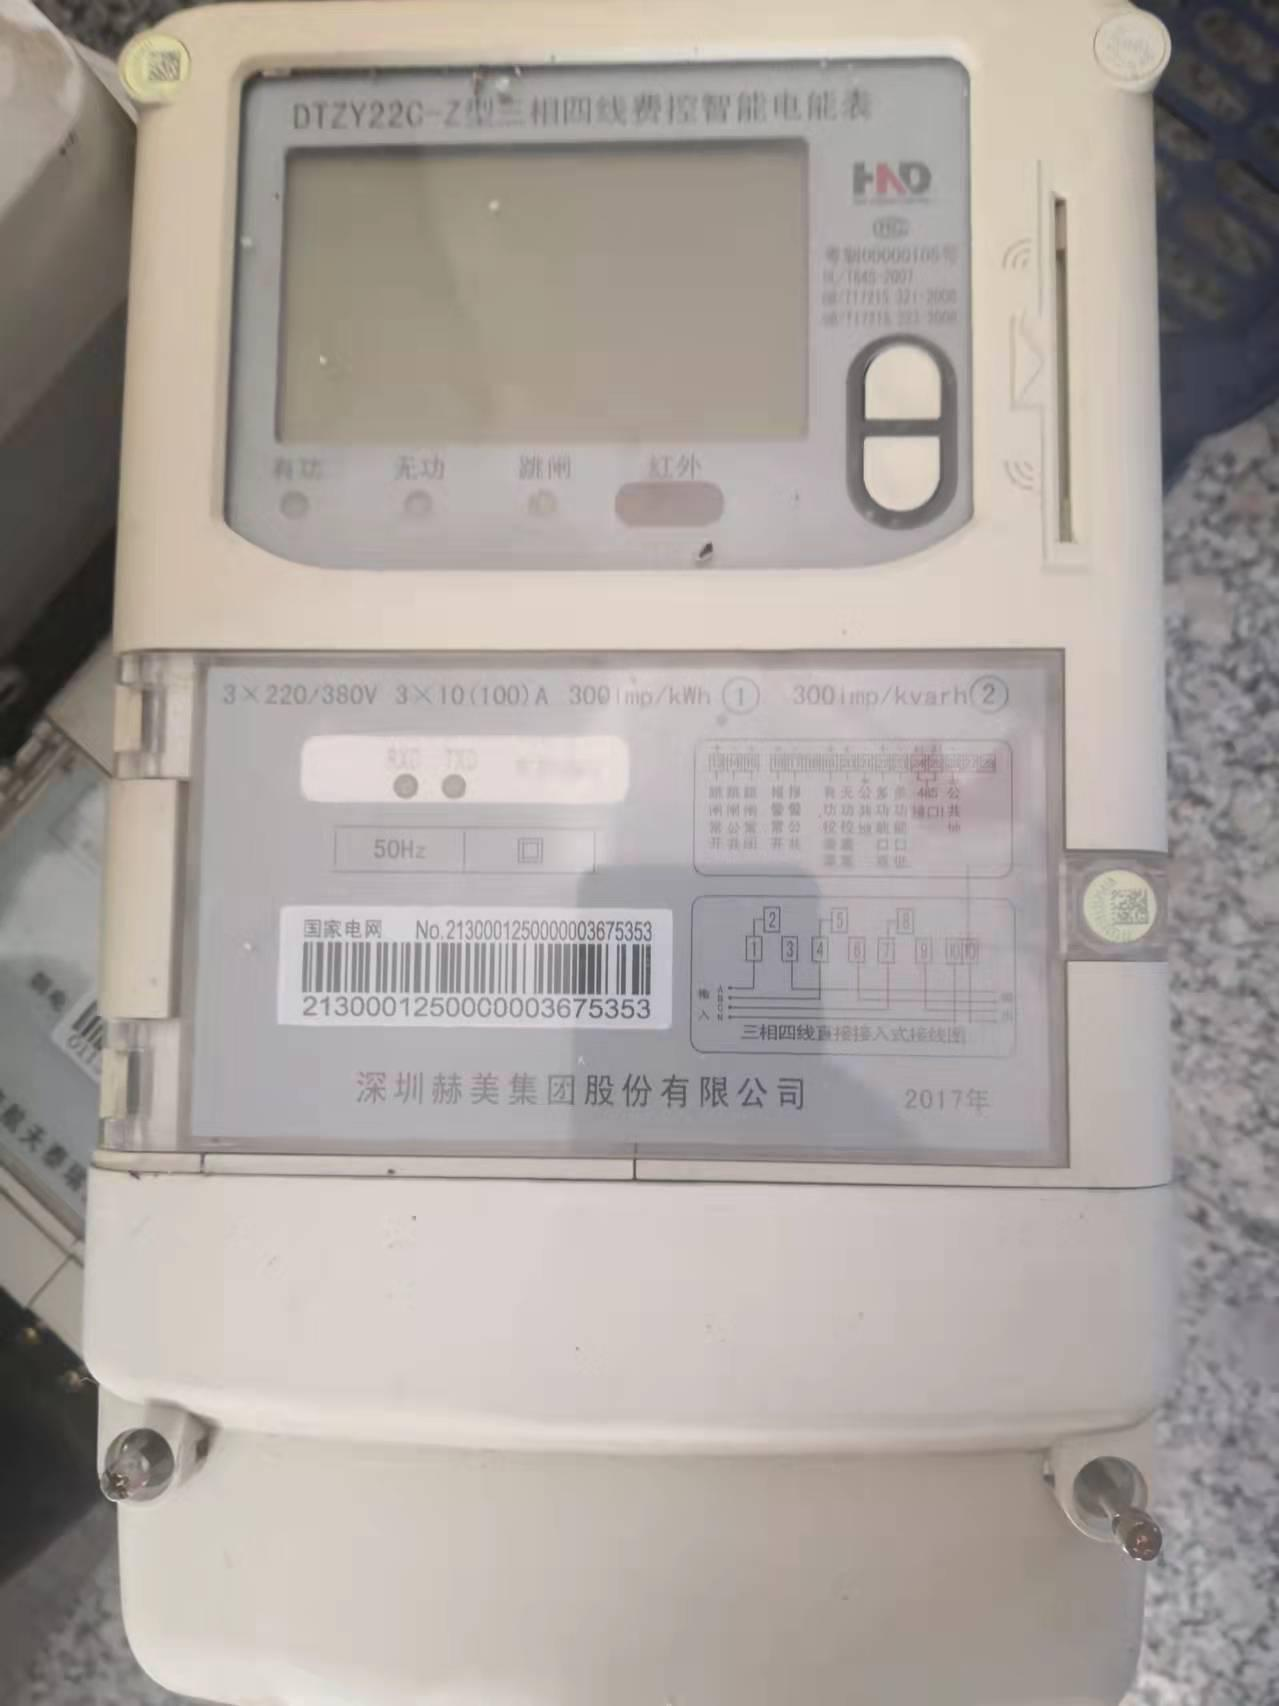digital: (83, 7, 1180, 1440)
